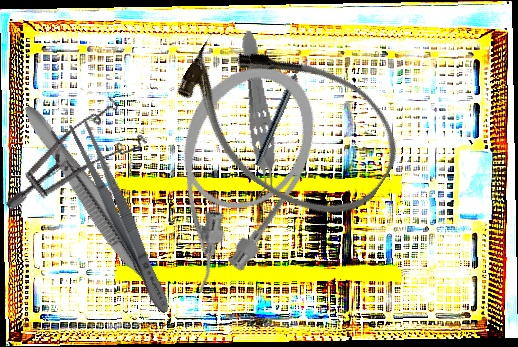Cannula: (156, 4, 419, 241), (126, 45, 339, 311)
Dressing Forceps: (64, 116, 178, 318)
Handpiece: (253, 56, 308, 168)
Speculum: (3, 75, 159, 252)
Tissue Forceps: (10, 101, 175, 306), (233, 27, 283, 207)
